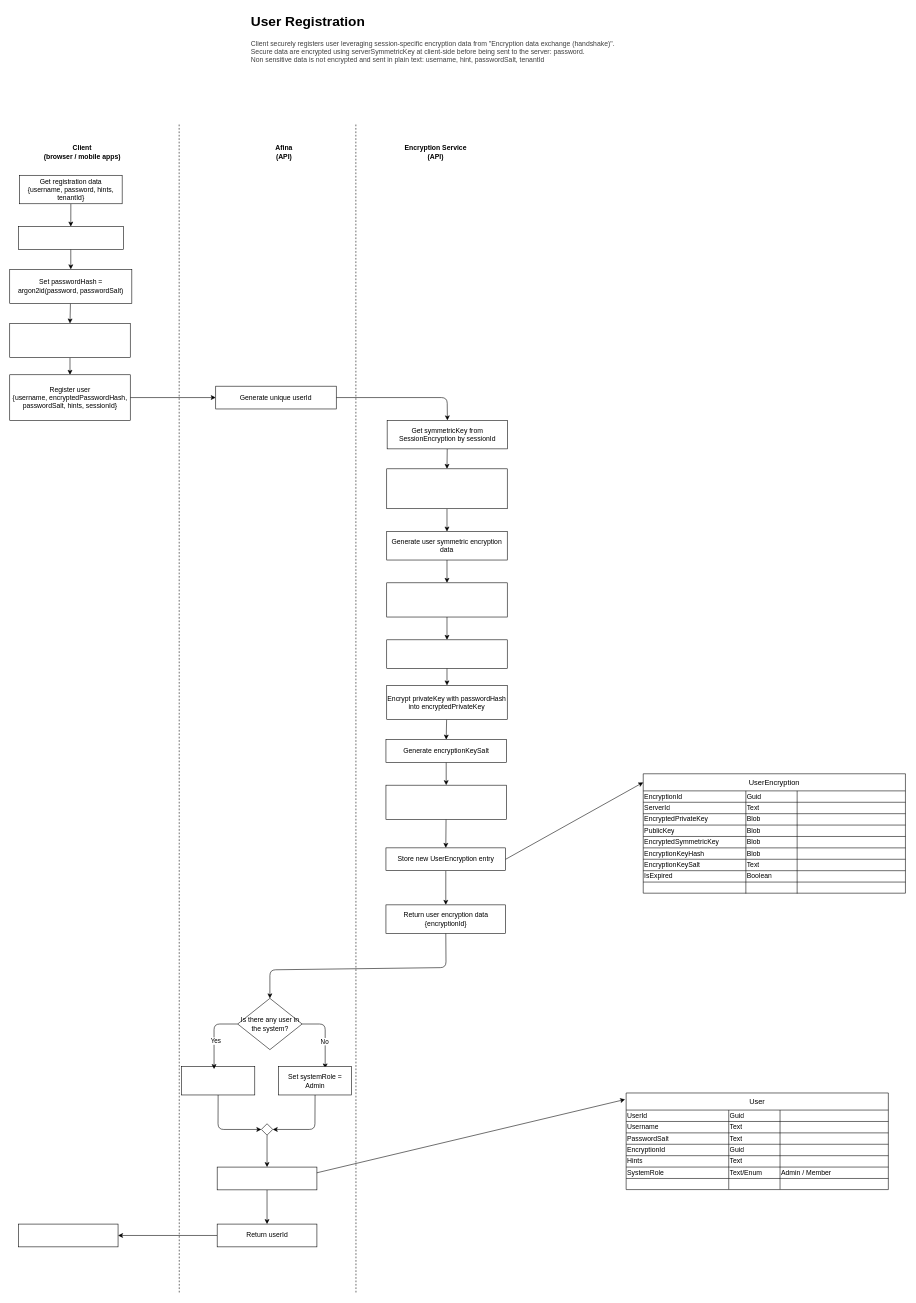
The diagram is 916 pixels wide and 1303 high, and some of its shapes have lost their labels. Here are the shapes that lost their labels. From the top down, the centre of each, then its label:
the point at 70,237: Generate passwordSalt
the point at 69,340: Encrypt passwordHash with serverSymmetricKey into encryptedPasswordHash
the point at 446,488: Decrypt encryptedPasswordHash using symmetricKey into passwordHash
the point at 446,599: Encrypt symmetricKey with passwordHash into encryptedSymmetricKey
the point at 446,653: Generate user asymmetric encryption data
the point at 445,802: Compute encryptionKeyHash = hash(passwordHash, encryptionKeySalt)
the point at 218,1080: Set systemRole = Member
the point at 267,1178: Store user record
the point at 68,1235: Return success
